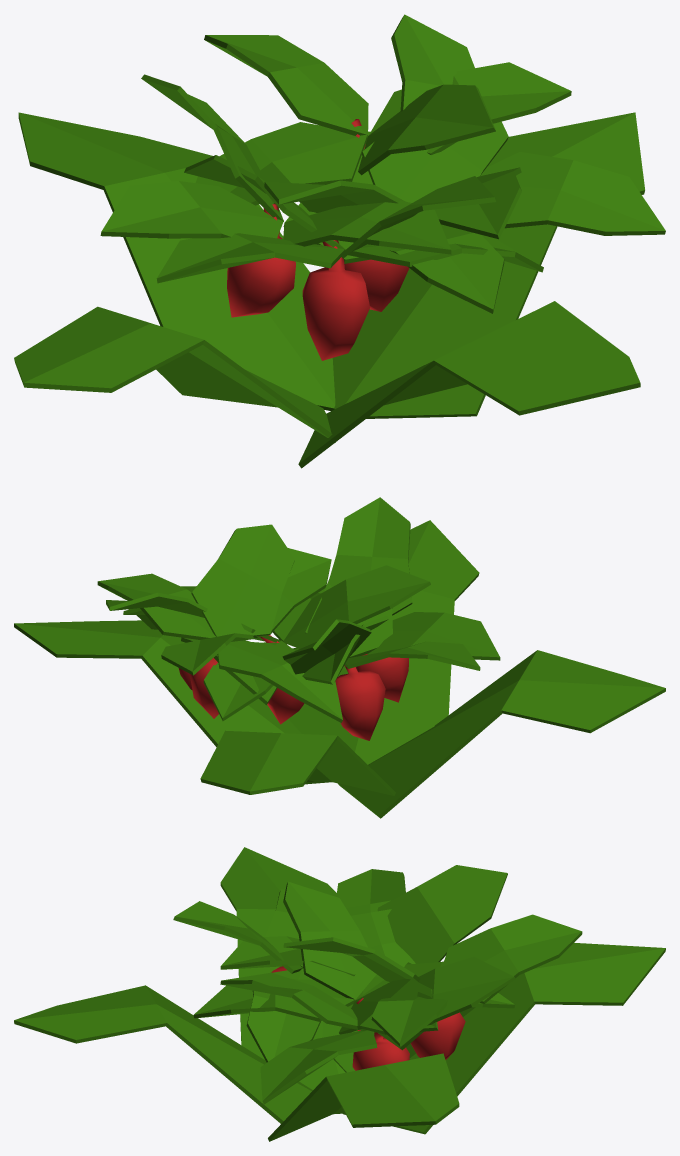
The model's file is bushDecoration.fbx.
3 renders of one model, top to bottom at view 1: azimuth 30°, elevation 25°; view 2: azimuth 150°, elevation 25°; view 3: azimuth 270°, elevation 25°, orthographic. The views are drawn at different scales.
Visible parts, largest first — view 1: bushDecoration; view 2: bushDecoration; view 3: bushDecoration.
Part boxes in pixels (left/top/right/bottom): bushDecoration: left=14, top=14, right=665, bottom=468; bushDecoration: left=14, top=497, right=665, bottom=818; bushDecoration: left=14, top=847, right=665, bottom=1141.
Bounding box in the file's own units: 5327 × 2075 × 5381.
